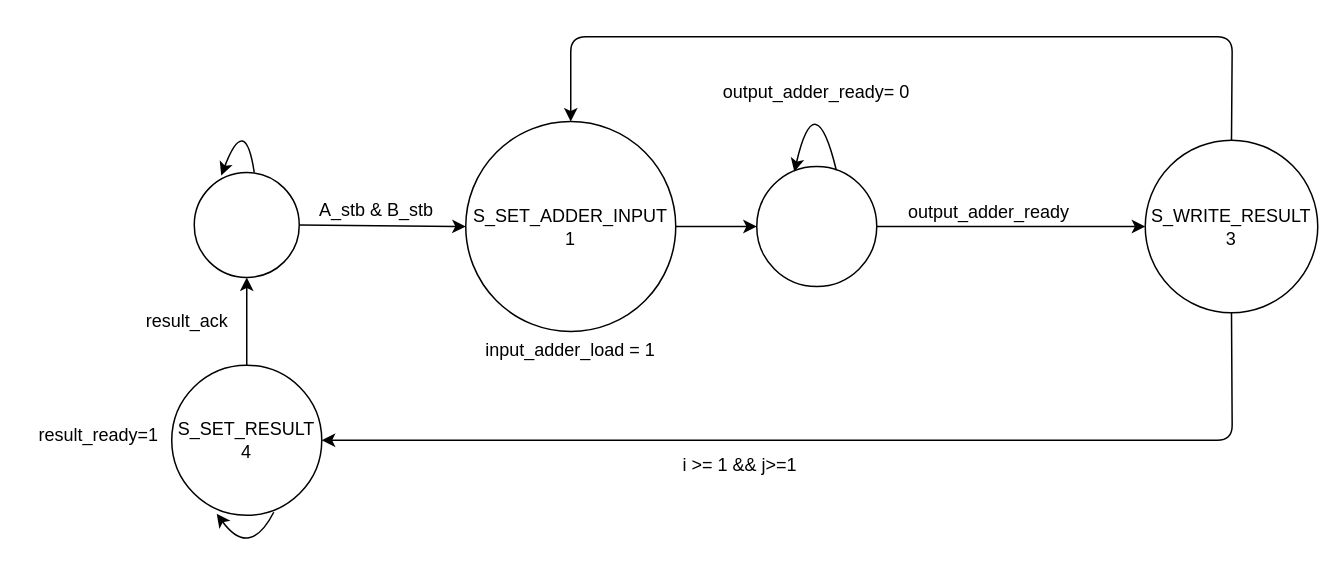
Some shapes in this 1344 by 566 pixel diagram are drawn without their labels. The shapes that lost their labels are listed below. From the top down, each one's centre as x and y in pixels, then its label:
At point 246,224: "S_IDLE 0".
At point 816,225: "S_WAIT 2".
